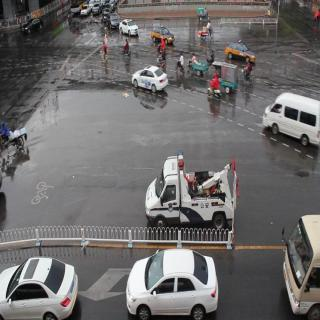Car: (141, 150, 245, 239), (125, 246, 217, 320), (0, 257, 81, 319), (262, 88, 320, 151), (133, 62, 168, 97), (223, 38, 256, 66), (18, 16, 46, 35), (152, 23, 174, 45), (119, 17, 139, 36), (106, 12, 121, 30), (80, 4, 92, 17), (92, 3, 101, 16)
